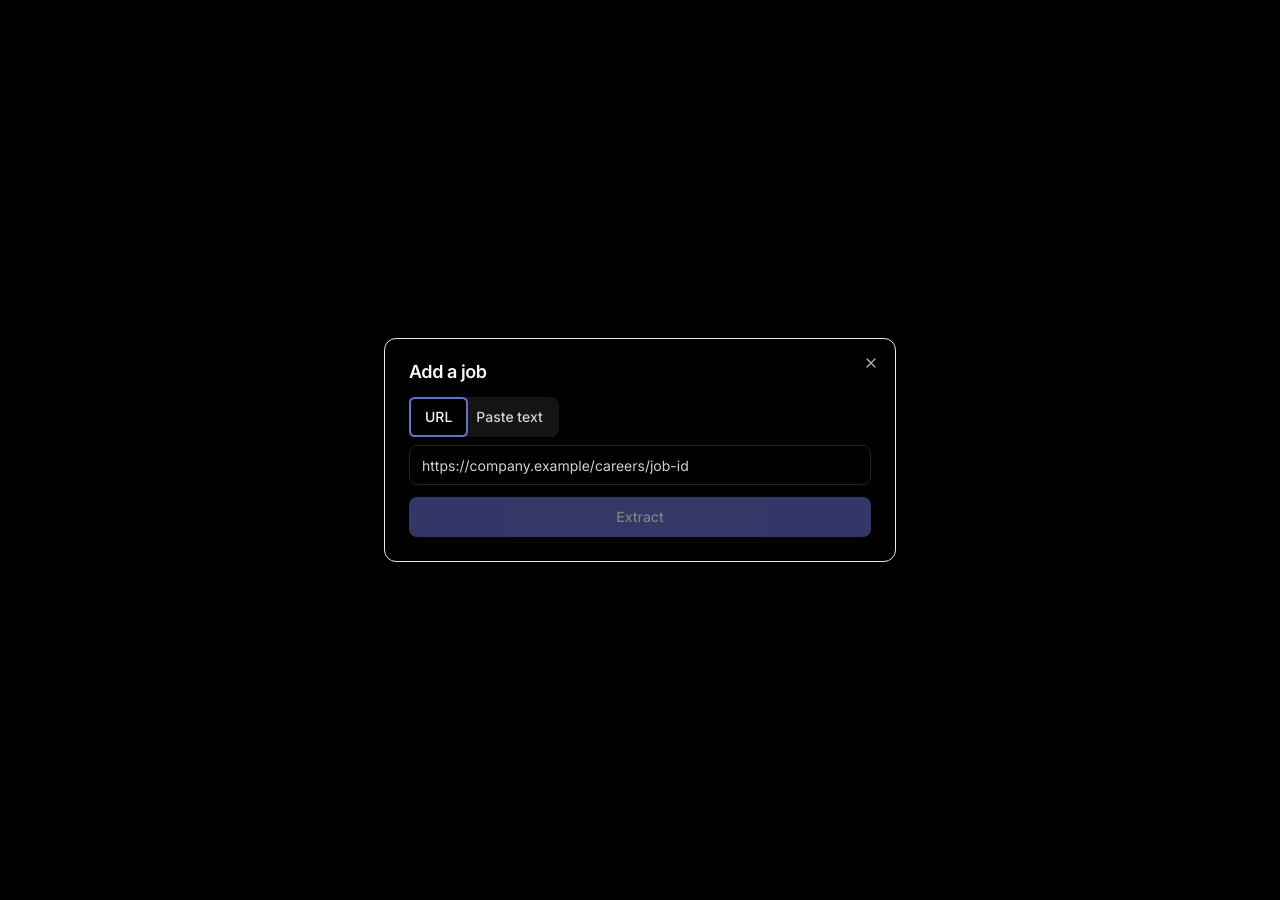
Test: AddJobDialog › extracts from a pasted URL and shows the editable preview form
The width and height of the screenshot is (1280, 900).
Type "https://acme.example/jobs/1" into the field named "Job posting URL".
click(640, 465); type("https://acme.example/jobs/1")  # box [409,445,871,485]
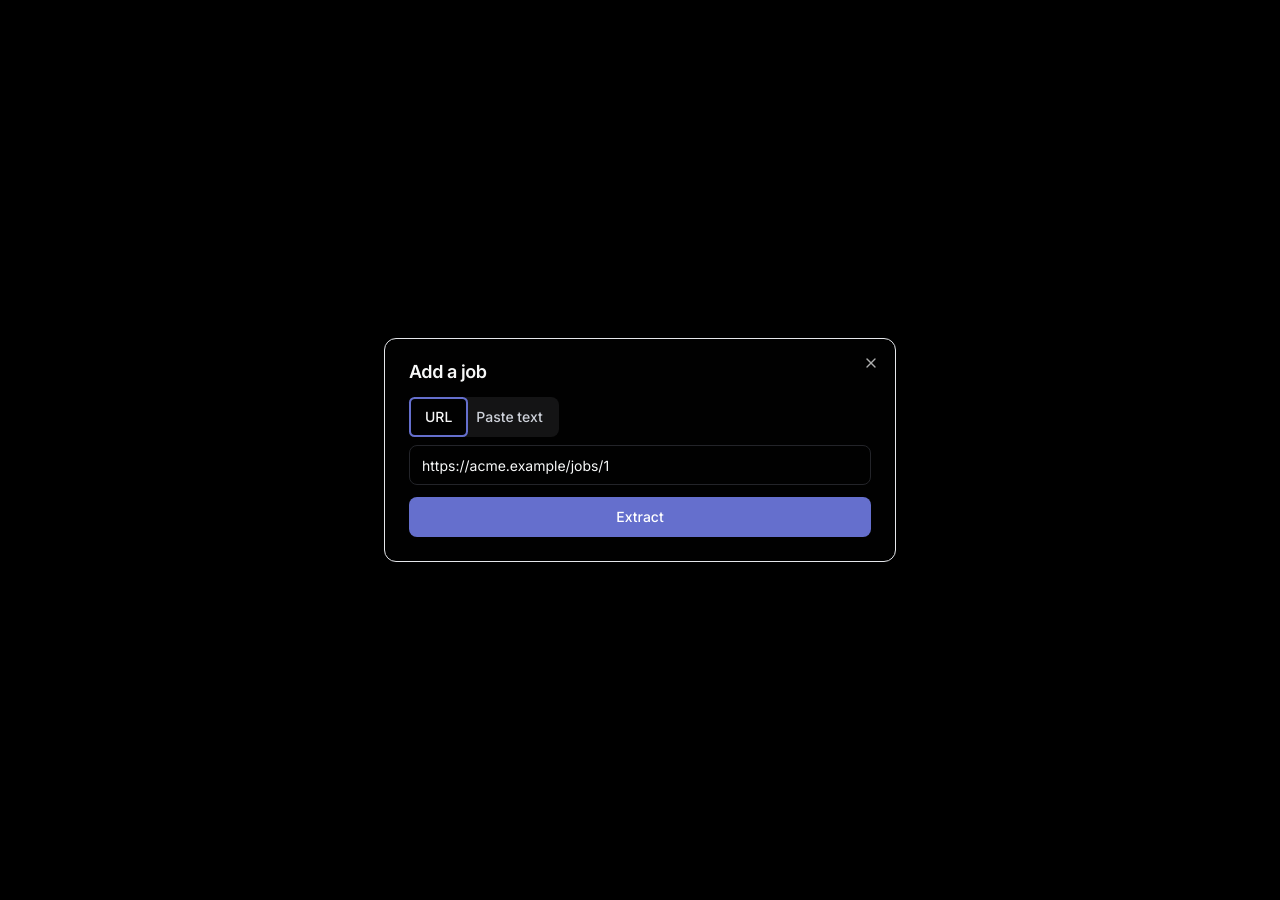
Click the button "Extract".
click(640, 517)  # box [409,497,871,537]
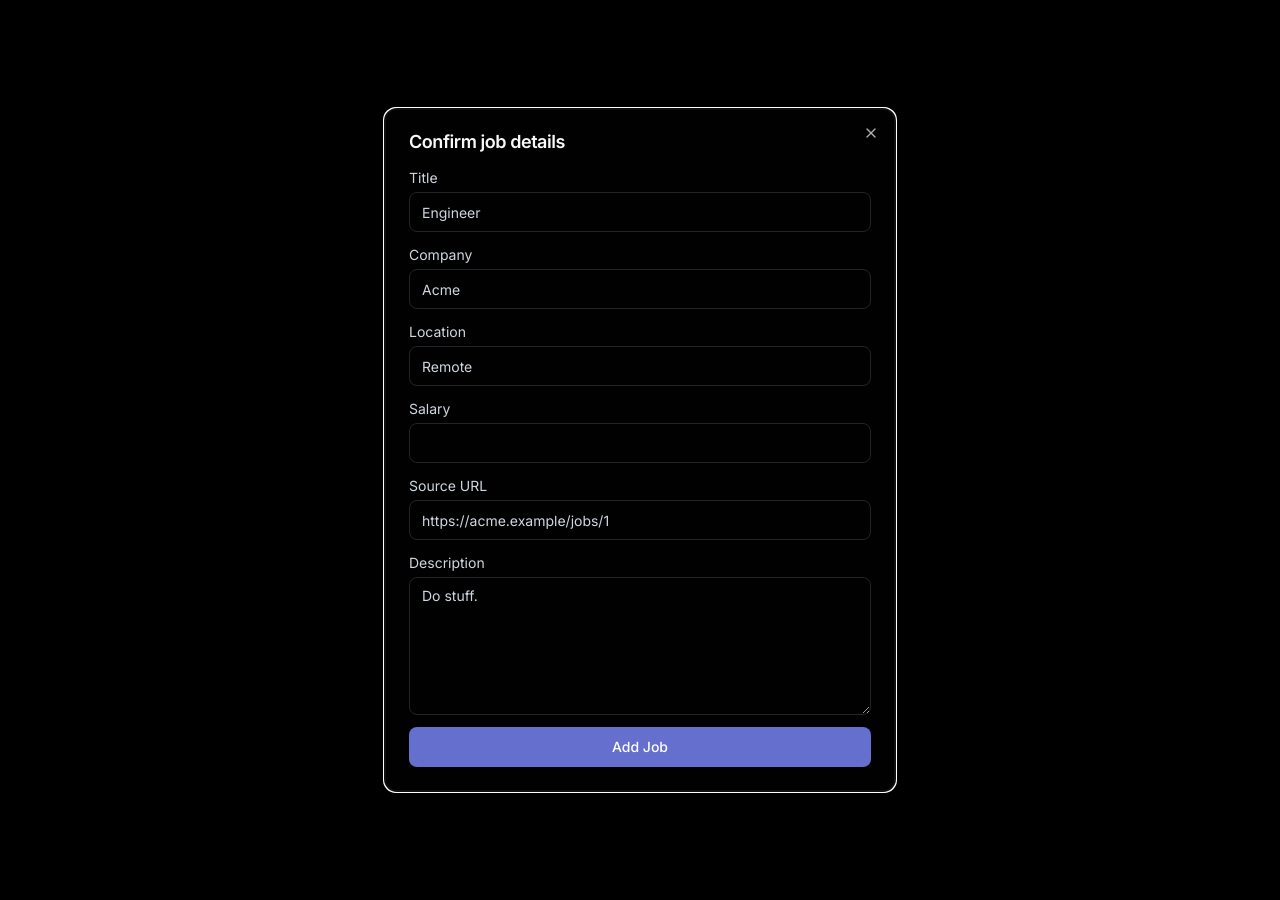
Check: the field labelled "Title" holds "Engineer", box [409,192,871,232]
Check: the field labelled "Company" holds "Acme", box [409,269,871,309]
